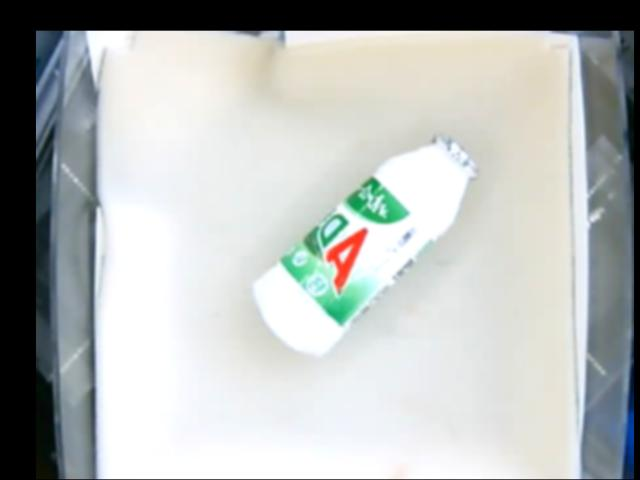Bottle: (253, 133, 476, 357)
